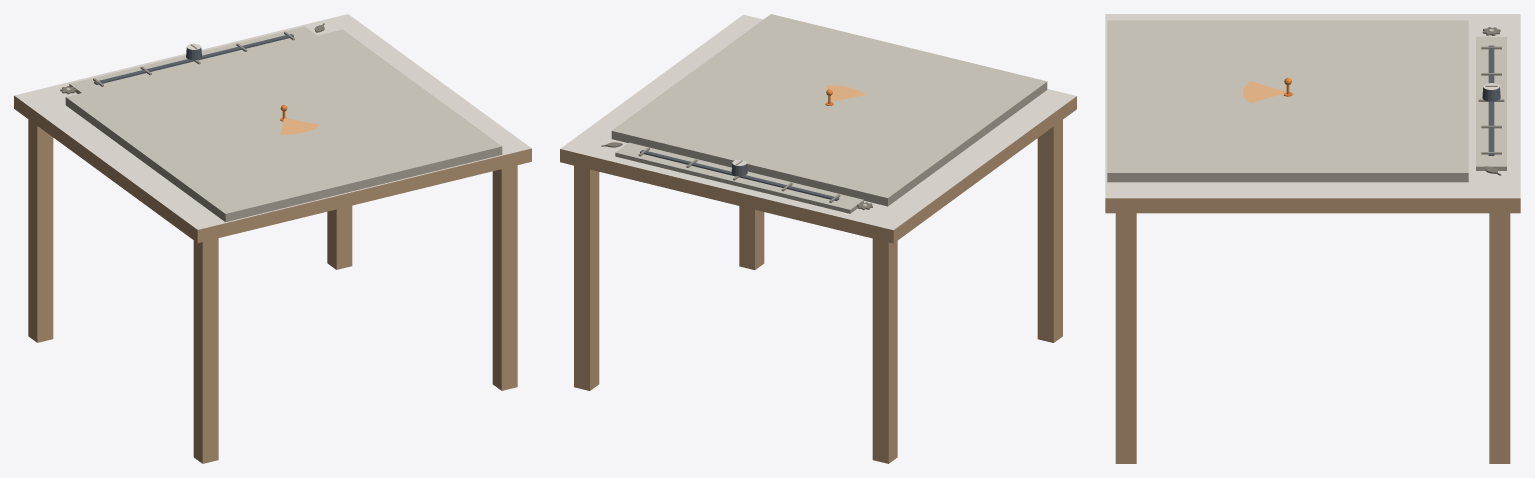
The model's file is Park_Levels_Rig.fbx.
3 renders of one model, left to right at view 1: azimuth 30°, elevation 25°; view 2: azimuth 150°, elevation 25°; view 3: azimuth 270°, elevation 25°, orthographic. The views are drawn at different scales.
Parts seen in each view (by area): view 1: Rig_Plinth, Rig_Table, Rig_Track; view 2: Rig_Plinth, Rig_Table, Rig_Track; view 3: Rig_Plinth, Rig_Table, Rig_Track, Rig_ViewCone.
Boxes of the visible parts, <box> form: Rig_Plinth: <box>65,29,502,222</box>; Rig_Table: <box>14,14,531,463</box>; Rig_Track: <box>69,26,316,93</box>; Rig_Plinth: <box>611,14,1047,206</box>; Rig_Table: <box>560,14,1076,463</box>; Rig_Track: <box>615,142,863,213</box>; Rig_Plinth: <box>1107,20,1468,182</box>; Rig_Table: <box>1105,14,1520,463</box>; Rig_Track: <box>1476,36,1506,170</box>; Rig_ViewCone: <box>1242,81,1286,102</box>.
Bounding box in the file's own units: 1.05 × 0.7946 × 1.
